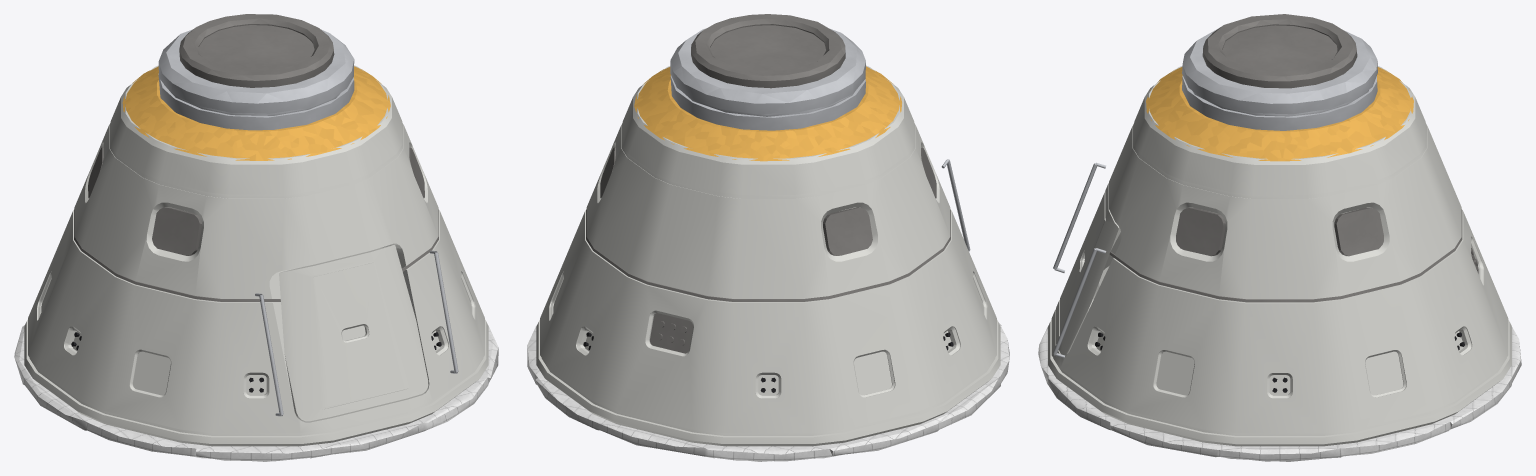
Rendered from ax_cmd_08_ares_cargo_capsule.glb.
The picture shows the model from 3 angles, left to right: view 1: azimuth 30°, elevation 25°; view 2: azimuth 150°, elevation 25°; view 3: azimuth 270°, elevation 25°; orthographic projection.
Parts seen in each view (by area): view 1: shell, hatch_door_1, mli_crown, nose_cap, heat_shield, docking_port, docking_hatch, window_blanking_plates, handrails, grey_stripe; view 2: shell, mli_crown, nose_cap, heat_shield, docking_port, docking_hatch, window_blanking_plates, grey_stripe, umbilical_panel; view 3: shell, mli_crown, nose_cap, heat_shield, docking_port, docking_hatch, window_blanking_plates, hatch_door_1, grey_stripe, handrails.
Part boxes in pixels (x1,y1,x2,y2): shell: (24, 65, 488, 446); hatch_door_1: (279, 245, 428, 421); mli_crown: (122, 66, 390, 160); nose_cap: (158, 29, 354, 130); heat_shield: (14, 325, 498, 461); docking_port: (179, 14, 334, 87); docking_hatch: (198, 25, 314, 70); window_blanking_plates: (88, 147, 424, 255); handrails: (255, 250, 458, 416); grey_stripe: (74, 210, 438, 301); shell: (536, 65, 1000, 446); mli_crown: (634, 66, 901, 161); nose_cap: (670, 28, 865, 130); heat_shield: (527, 323, 1009, 461); docking_port: (691, 14, 845, 88); docking_hatch: (710, 25, 825, 70); window_blanking_plates: (600, 147, 936, 255); grey_stripe: (586, 209, 950, 301); umbilical_panel: (650, 313, 692, 353); shell: (1048, 66, 1511, 446); mli_crown: (1146, 67, 1413, 161); nose_cap: (1182, 28, 1377, 130); heat_shield: (1038, 324, 1521, 461); docking_port: (1202, 14, 1357, 88); docking_hatch: (1222, 25, 1337, 71); window_blanking_plates: (1176, 207, 1383, 256); hatch_door_1: (1056, 183, 1118, 356); grey_stripe: (1109, 209, 1462, 302); handrails: (1053, 162, 1106, 358).
Size of the model in its own units: 3.75 by 2.95 by 3.75.
Materials: 6 (4 with a texture image).
